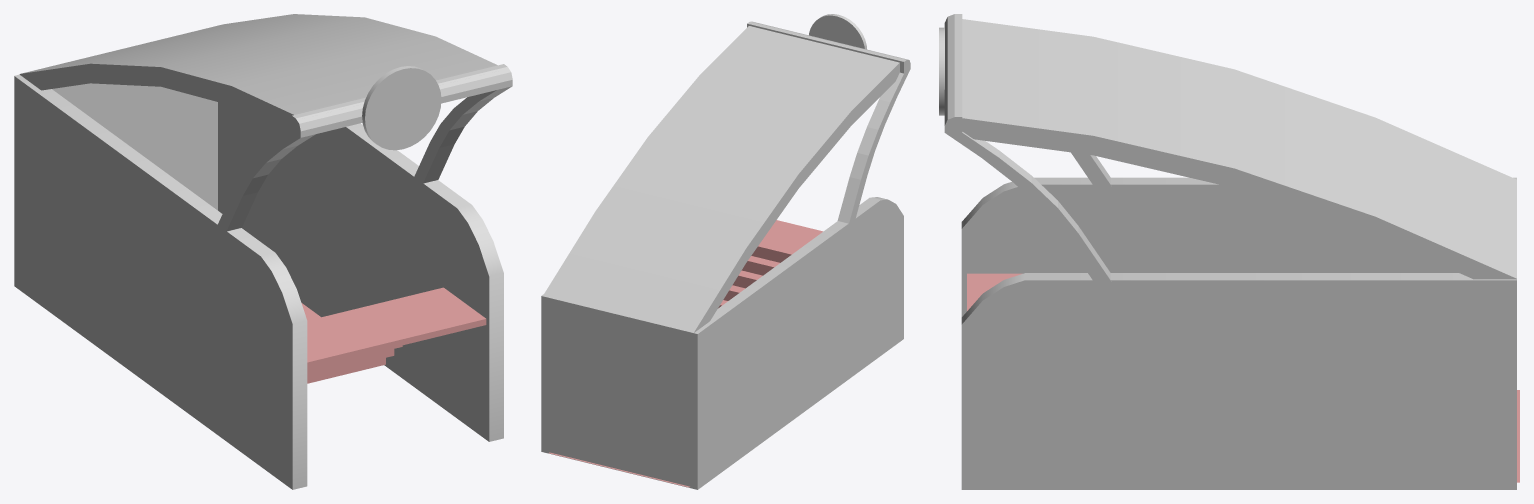
Rendered from SM_subway_station.fbx.
The picture shows the model from 3 angles, left to right: view 1: azimuth 30°, elevation 25°; view 2: azimuth 150°, elevation 25°; view 3: azimuth 270°, elevation 25°; orthographic projection. The views are drawn at different scales.
Parts seen in each view (by area): view 1: sation metro; view 2: sation metro; view 3: sation metro.
Part boxes in pixels (box(x1,y1,x2,y2)): sation metro: box(14, 14, 512, 489); sation metro: box(541, 14, 910, 489); sation metro: box(939, 14, 1519, 489).
Size of the model in its own units: 223 by 407 by 531.
